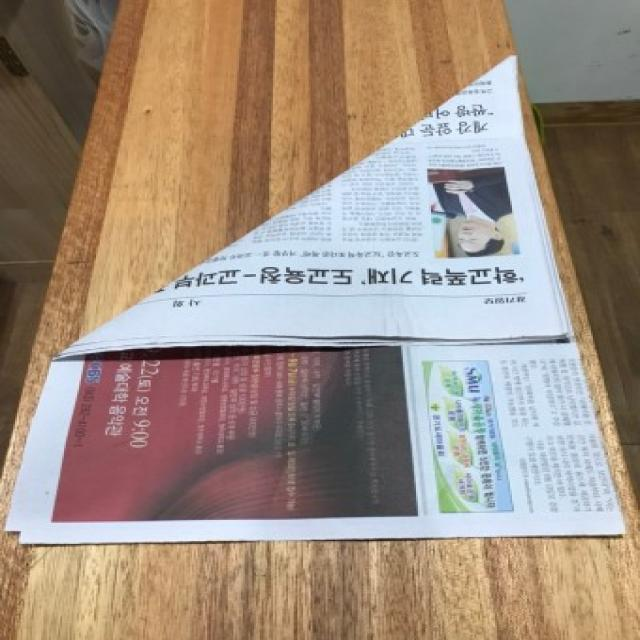Newspaper: (19, 57, 634, 547)
